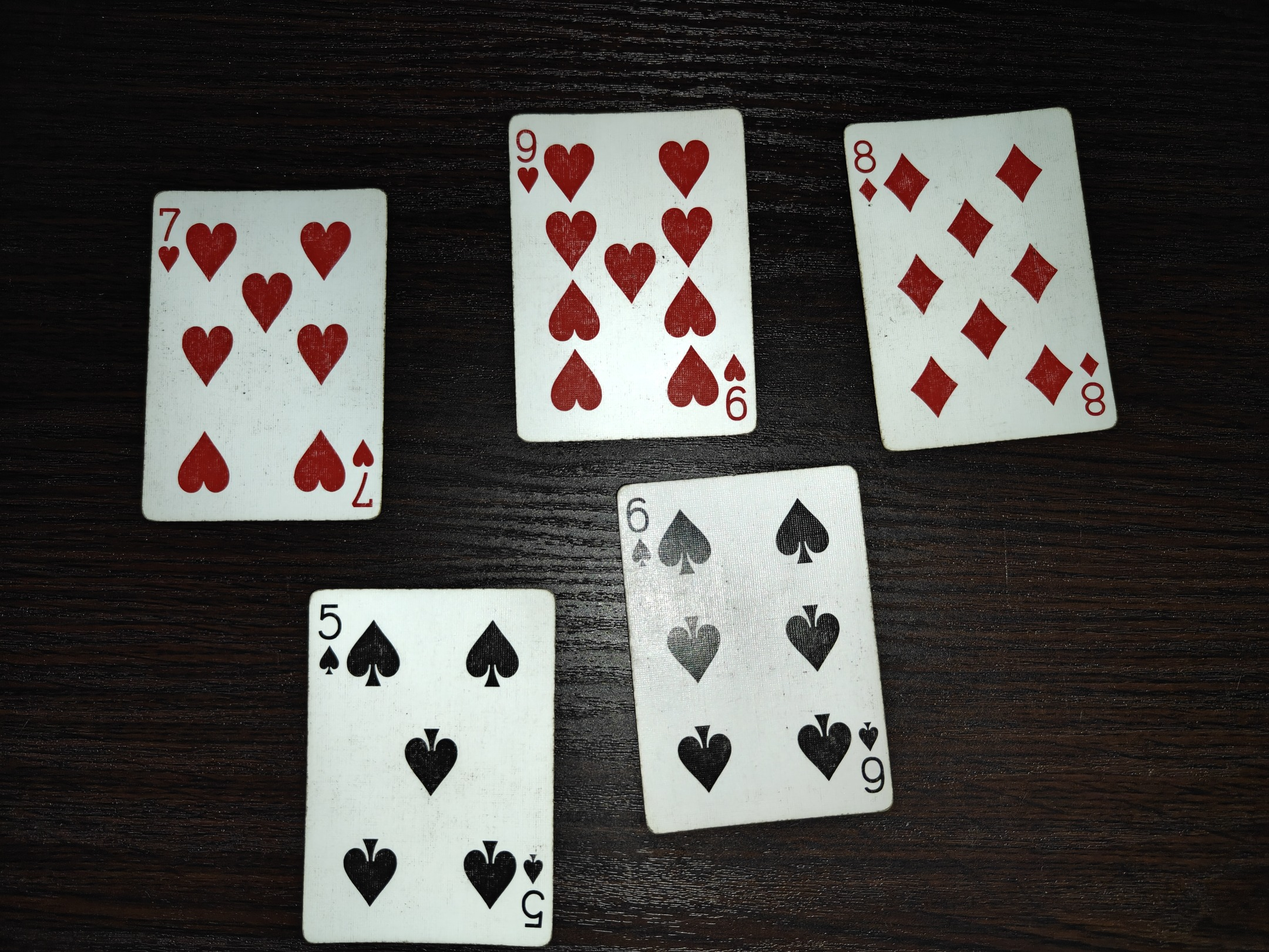5S: (300, 585, 558, 946)
6S: (617, 462, 898, 836)
7H: (140, 189, 389, 524)
8D: (845, 106, 1117, 452)
9H: (508, 106, 758, 443)
